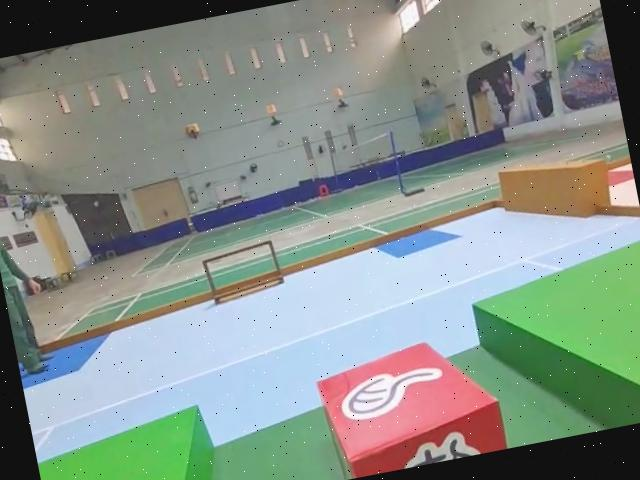R2 Fake: (310, 324, 512, 480)
